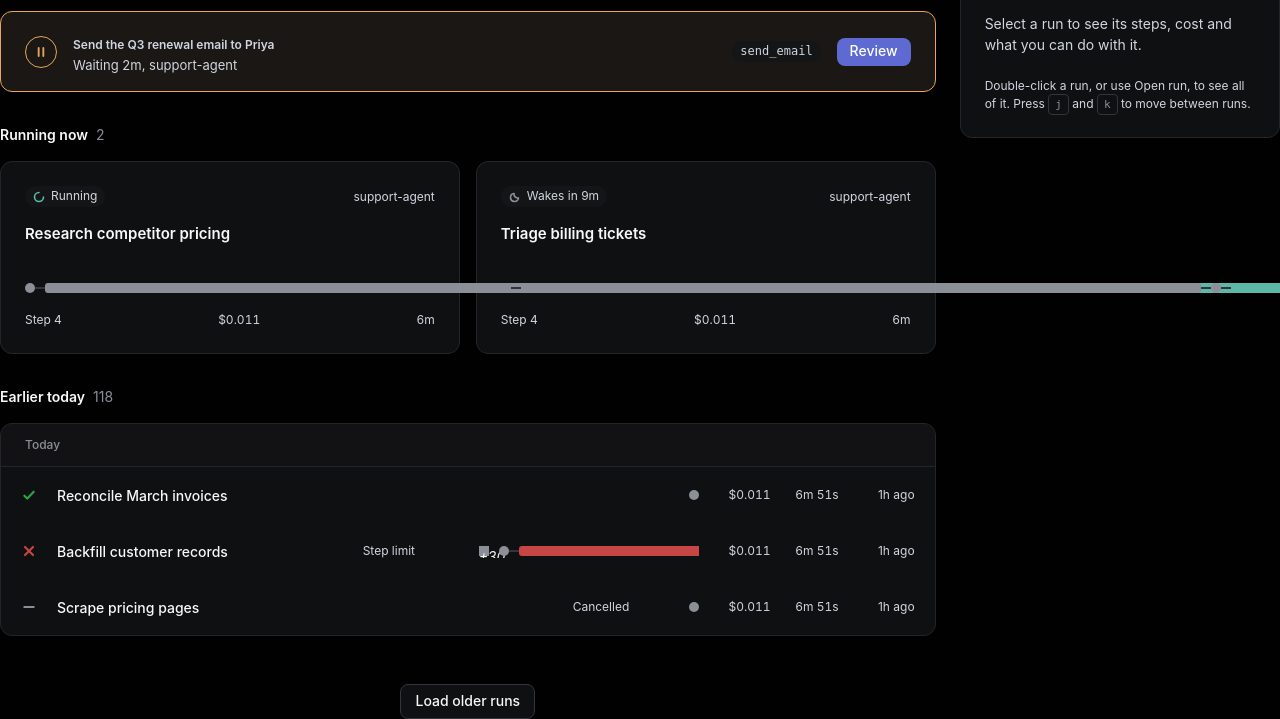
live updates › loads older runs on request and hides the button at the end
(page scrolled)
Click the button "Load older runs" at coordinates (468, 702), box [400, 684, 535, 718]
(page scrolled)
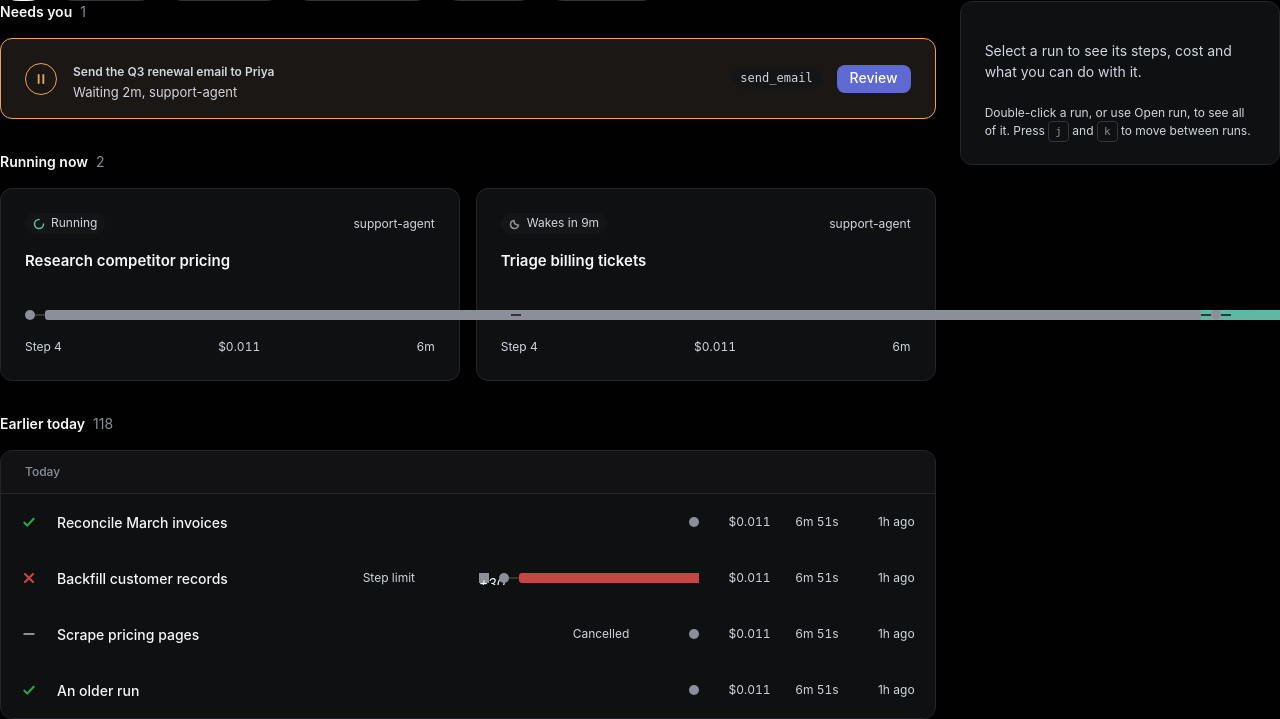
Result: the text "An older run" is shown at [57, 682, 139, 699]
Result: the button "Load older runs" is gone
